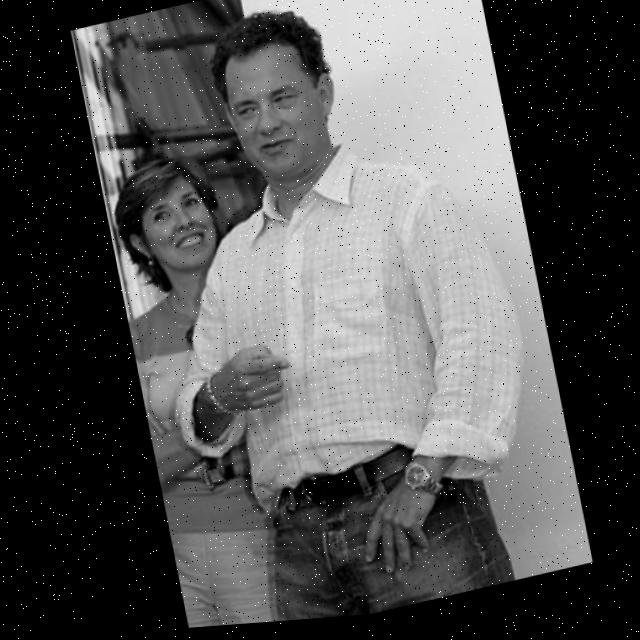face: (198, 3, 361, 205), (108, 150, 244, 299)
